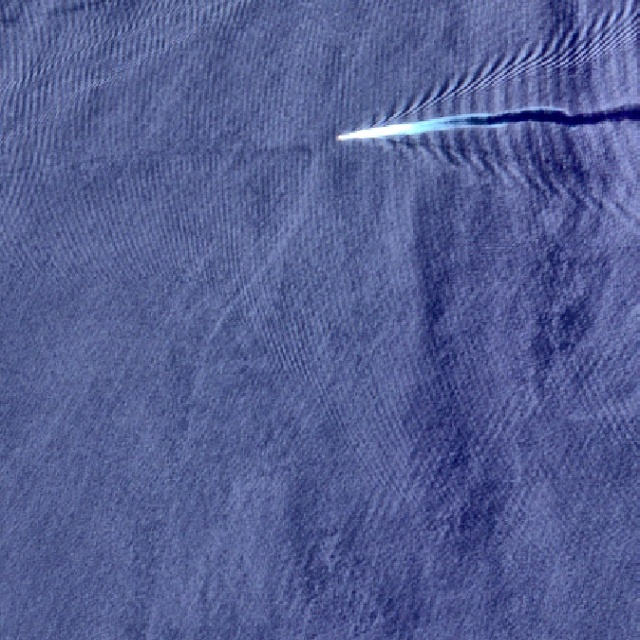wake: (317, 47, 612, 198)
